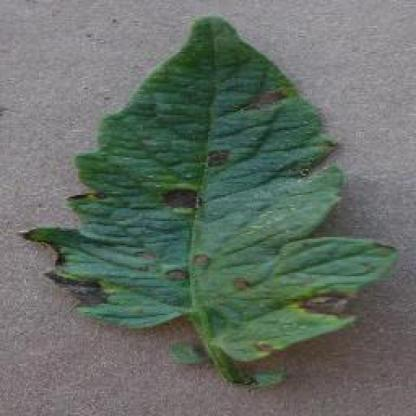Tomato_Blight: (19, 16, 398, 359)
